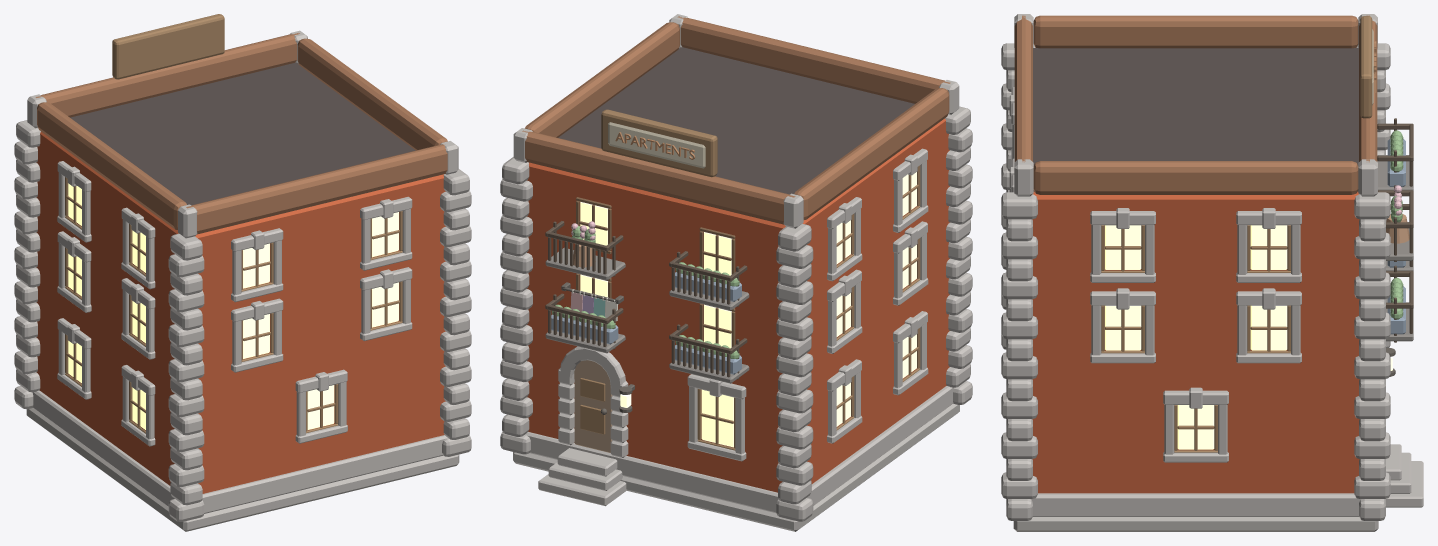
The model's file is 02-apartment-building.glb.
3 views of the same model, side by side, from view 1: azimuth 30°, elevation 25°; view 2: azimuth 150°, elevation 25°; view 3: azimuth 270°, elevation 25° (orthographic). The views are drawn at different scales.
Parts seen in each view (by area): view 1: Walls, Deck, CopB, CopF, Plinth, BaseB, CopL, Sign_frame, CopR, BaseL, W8_back_glow, W6_back_glow (+33 smaller); view 2: Walls, Deck, CopF, CopB, CopL, Plinth, CopR, BaseF, BaseL, Sign_frame, Sign_plaque, Door_leaf (+44 smaller); view 3: Walls, Deck, CopR, CopL, BaseR, Plinth, CopB, W19_right_glow, W20_right_glow, W17_right_glow, W18_right_glow, CopF (+60 smaller).
Boxes of the visible parts, <box> form: Walls: <box>36,131,445,493</box>; Deck: <box>70,62,415,205</box>; CopB: <box>186,144,447,234</box>; CopF: <box>35,33,299,117</box>; Plinth: <box>26,408,459,531</box>; BaseB: <box>202,435,447,513</box>; CopL: <box>37,102,186,230</box>; Sign_frame: <box>112,14,224,79</box>; CopR: <box>297,38,447,150</box>; BaseL: <box>32,390,174,506</box>; W8_back_glow: <box>372,282,398,327</box>; W6_back_glow: <box>372,212,398,257</box>; Walls: <box>527,118,949,492</box>; Deck: <box>558,47,914,194</box>; CopF: <box>522,130,795,224</box>; CopB: <box>677,16,950,103</box>; CopL: <box>794,88,949,219</box>; Plinth: <box>513,403,959,531</box>; CopR: <box>525,22,679,137</box>; BaseF: <box>525,432,778,513</box>; BaseL: <box>807,386,953,505</box>; Sign_frame: <box>601,109,717,177</box>; Sign_plaque: <box>608,122,705,168</box>; Door_leaf: <box>574,378,612,452</box>; Walls: <box>1032,191,1359,493</box>; Deck: <box>1033,48,1358,191</box>; CopR: <box>1033,161,1358,194</box>; CopL: <box>1033,15,1358,48</box>; BaseR: <box>1030,493,1361,516</box>; Plinth: <box>1013,517,1378,531</box>; CopB: <box>1014,15,1032,162</box>; W19_right_glow: <box>1250,305,1287,350</box>; W20_right_glow: <box>1177,405,1214,449</box>; W17_right_glow: <box>1250,225,1287,269</box>; W18_right_glow: <box>1105,305,1141,350</box>; CopF: <box>1359,15,1377,162</box>.
Size of the model in its own units: 3.2 by 3.73 by 3.47.
